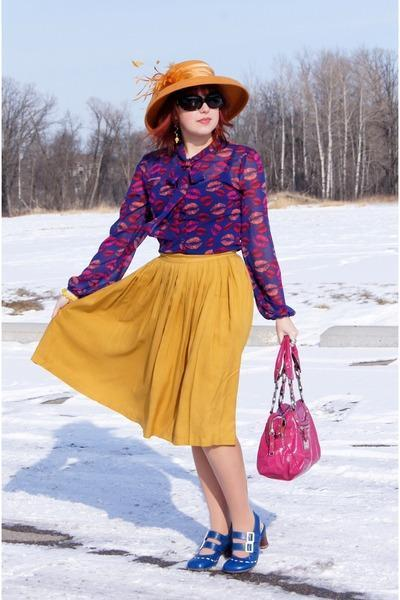bag: (257, 332, 320, 480)
hat: (145, 60, 248, 148)
shirt: (67, 132, 295, 319)
shoe: (186, 511, 266, 575)
skirt: (31, 250, 255, 446)
sunglass: (180, 84, 222, 107)
